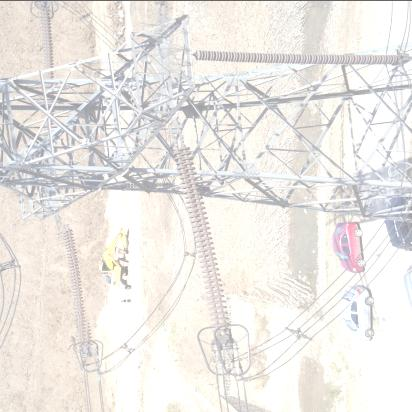insulator: (170, 137, 233, 339), (53, 225, 97, 351)
